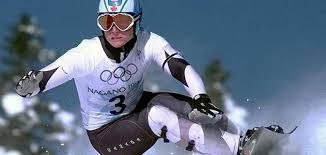snowboard: (242, 123, 300, 155)
